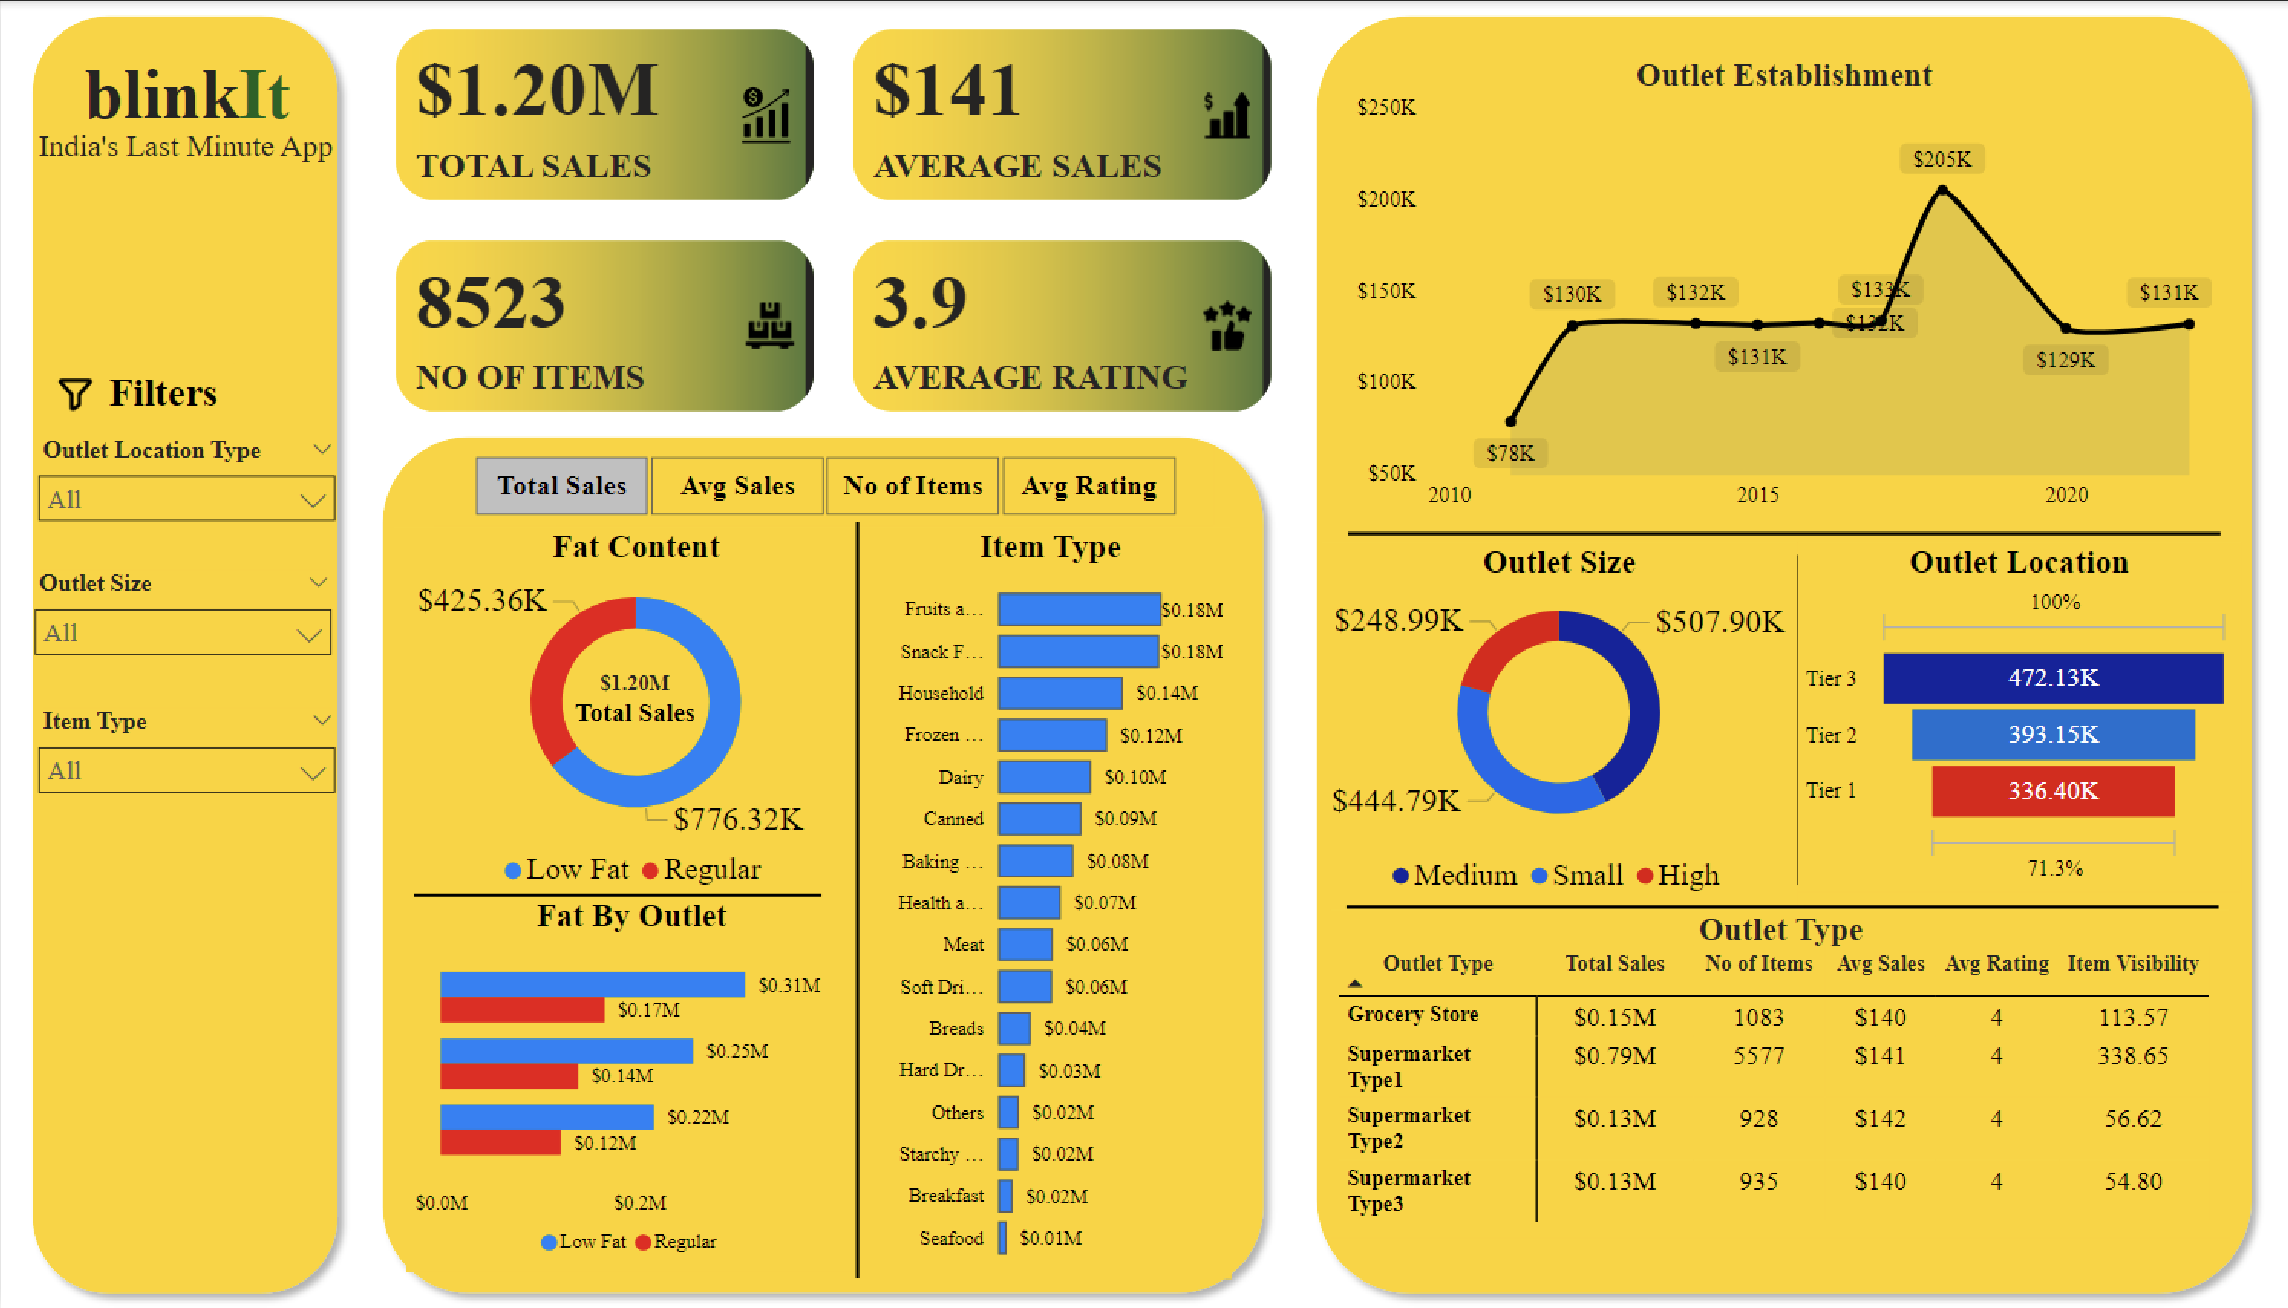

The page's visual inventory and layout, read from the dashboard file:
{"tool":"powerbi","page":{"name":"Page 1","canvas":[1400,800],"ordinal":0},"visuals":[{"type":"shape","box":[10.2,0,204.8,800],"z":0},{"type":"textbox","box":[11.5,26.6,204.4,63.5],"z":1000},{"type":"textbox","box":[1.2,72.7,224,42.7],"z":2000},{"type":"cardVisual","fields":{"Data":["BlinkIT Grocery Data.Total Sales","BlinkIT Grocery Data.Avg Sales","BlinkIT Grocery Data.No of Sales","BlinkIT Grocery Data.Avg Rating"]},"box":[225.1,0,571,269.6],"z":3000},{"type":"shape","box":[225.1,258.2,557.1,541.8],"z":4000},{"type":"donutChart","title":"Fat Content","fields":{"Y":["BlinkIT Grocery Data.Total Sales"],"Category":["BlinkIT Grocery Data.Item Fat Content"]},"box":[240.4,321.8,297.6,231.5],"z":5000},{"type":"slicer","fields":{"Values":["Metrics.Metrics"]},"box":[264.5,272.2,478.2,49.6],"z":6000},{"type":"cardVisual","fields":{"Data":["BlinkIT Grocery Data.Total Sales"]},"box":[333.2,384.1,111.9,86.5],"z":7000},{"type":"clusteredBarChart","title":"Fat By Outlet","fields":{"Y":["BlinkIT Grocery Data.Total Sales"],"Category":["BlinkIT Grocery Data.Outlet Location Type"],"Series":["BlinkIT Grocery Data.Item Fat Content"]},"box":[248.3,548.5,276,229.8],"z":8000},{"type":"shape","box":[253.2,523.6,249.5,46.9],"z":9000},{"type":"shape","box":[513.8,319.2,20.3,462.9],"z":10000},{"type":"barChart","title":"Item Type","fields":{"Y":["BlinkIT Grocery Data.Total Sales"],"Category":["BlinkIT Grocery Data.Item Type"]},"box":[531.6,321.8,221.3,460.4],"z":11000},{"type":"shape","box":[796.2,0,590.1,800],"z":12000},{"type":"lineChart","title":"Outlet Establishment","fields":{"Y":["BlinkIT Grocery Data.Total Sales"],"Category":["BlinkIT Grocery Data.Outlet Establishment Year"]},"box":[825.4,34.3,534.2,284.9],"z":13000},{"type":"shape","box":[825.4,302.7,534.2,47.1],"z":14000},{"type":"donutChart","title":"Outlet Size","fields":{"Y":["BlinkIT Grocery Data.Total Sales"],"Category":["BlinkIT Grocery Data.Outlet Size"]},"box":[808.9,331.9,291.2,225.1],"z":15000},{"type":"shape","box":[1089.3,338.4,22.2,202.5],"z":16000},{"type":"shape","box":[824.1,530.3,534.2,47.1],"z":17000},{"type":"funnel","title":"Outlet Location","fields":{"Y":["Sum(BlinkIT Grocery Data.Sales)"],"Category":["BlinkIT Grocery Data.Outlet Location Type"]},"box":[1100.1,331.9,270.9,213.7],"z":18000},{"type":"pivotTable","title":"Outlet Type","fields":{"Rows":["BlinkIT Grocery Data.Outlet Type"],"Values":["BlinkIT Grocery Data.Total Sales","BlinkIT Grocery Data.No of Items","BlinkIT Grocery Data.Avg Sales","BlinkIT Grocery Data.Avg Rating","Sum(BlinkIT Grocery Data.Item Visibility)"]},"box":[814,557.1,550.7,200.9],"z":19000},{"type":"slicer","fields":{"Values":["BlinkIT Grocery Data.Outlet Location Type"]},"box":[12.7,260.7,202.2,73.8],"z":20000},{"type":"slicer","fields":{"Values":["BlinkIT Grocery Data.Outlet Size"]},"box":[10.2,343.4,202.2,57.2],"z":21000},{"type":"slicer","fields":{"Values":["BlinkIT Grocery Data.Item Type"]},"box":[12.7,427.3,202.2,73.8],"z":22000},{"type":"textbox","box":[56.6,221.7,86.6,37],"z":23000},{"type":"image","box":[24.2,222.9,42.7,34.6],"z":24000}]}

Visuals, with their boxes in screenshot pixels (x1, y1, x2, y2), scaled from the page's 1400x800 canvas onto the 2288x1308 screenshot:
shape: l=17, t=0, r=351, b=1307
textbox: l=19, t=43, r=353, b=147
textbox: l=2, t=119, r=368, b=189
cardVisual - BlinkIT Grocery Data.Total Sales x BlinkIT Grocery Data.Avg Sales: l=368, t=0, r=1301, b=441
shape: l=368, t=422, r=1278, b=1307
"Fat Content" donutChart: l=393, t=526, r=879, b=905
slicer - Metrics.Metrics: l=432, t=445, r=1214, b=526
cardVisual - BlinkIT Grocery Data.Total Sales: l=545, t=628, r=727, b=769
"Fat By Outlet" clusteredBarChart: l=406, t=897, r=857, b=1273
shape: l=414, t=856, r=822, b=933
shape: l=840, t=522, r=873, b=1279
"Item Type" barChart: l=869, t=526, r=1230, b=1279
shape: l=1301, t=0, r=2266, b=1307
"Outlet Establishment" lineChart: l=1349, t=56, r=2222, b=522
shape: l=1349, t=495, r=2222, b=572
"Outlet Size" donutChart: l=1322, t=543, r=1798, b=911
shape: l=1780, t=553, r=1817, b=884
shape: l=1347, t=867, r=2220, b=944
"Outlet Location" funnel: l=1798, t=543, r=2241, b=892
"Outlet Type" pivotTable: l=1330, t=911, r=2230, b=1239
slicer - BlinkIT Grocery Data.Outlet Location Type: l=21, t=426, r=351, b=547
slicer - BlinkIT Grocery Data.Outlet Size: l=17, t=561, r=347, b=655
slicer - BlinkIT Grocery Data.Item Type: l=21, t=699, r=351, b=819
textbox: l=93, t=362, r=234, b=423
image: l=40, t=364, r=109, b=421
